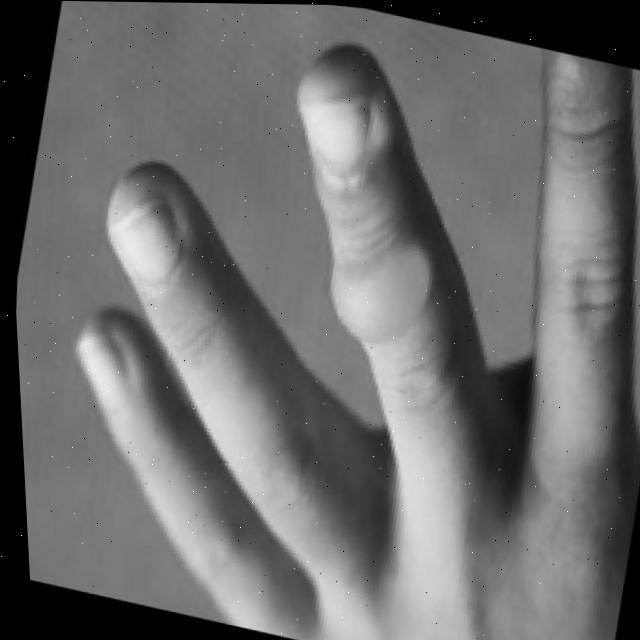Eczema: (305, 246, 475, 365)
